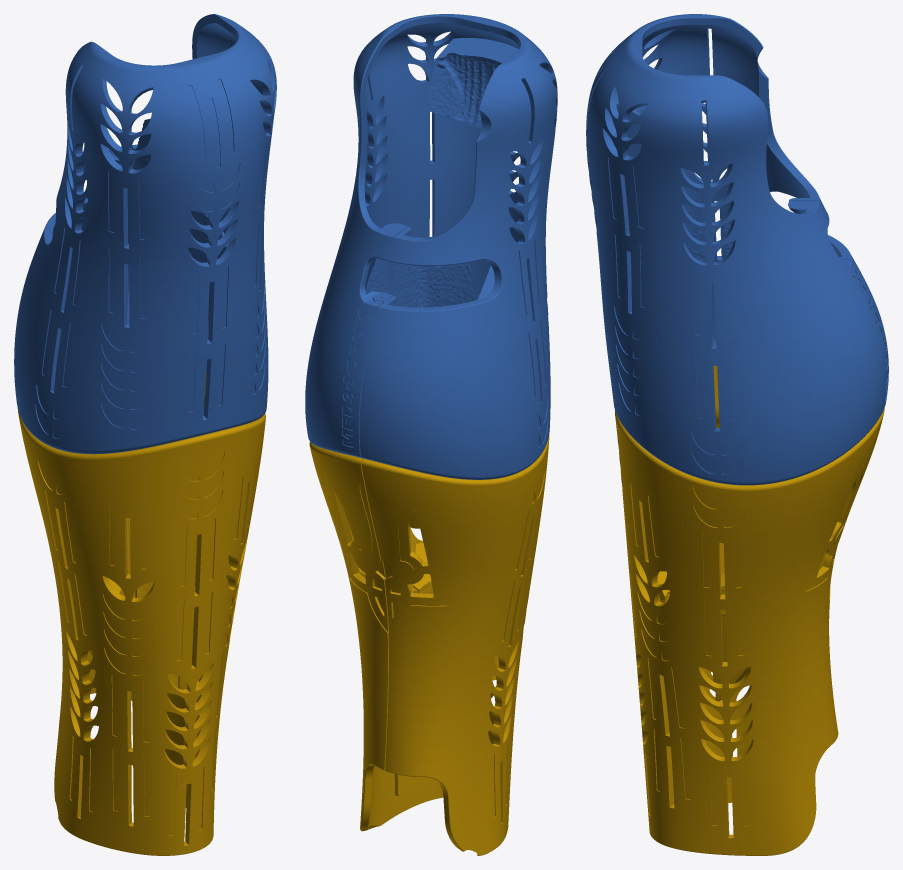
The model's file is cosmetic12.glb.
3 views of the same model, side by side, from view 1: azimuth 30°, elevation 25°; view 2: azimuth 150°, elevation 25°; view 3: azimuth 270°, elevation 25° (orthographic). The views are drawn at different scales.
Parts seen in each view (by area): view 1: Project 1, Project 4; view 2: Project 1, Project 4; view 3: Project 1, Project 4.
Part boxes in pixels (<box>): Project 1: <box>14,14,276,454</box>; Project 4: <box>17,373,265,855</box>; Project 1: <box>305,14,557,511</box>; Project 4: <box>309,435,549,855</box>; Project 1: <box>586,14,888,485</box>; Project 4: <box>615,346,884,855</box>.
Bounding box in the file's own units: 120 × 430 × 150.
